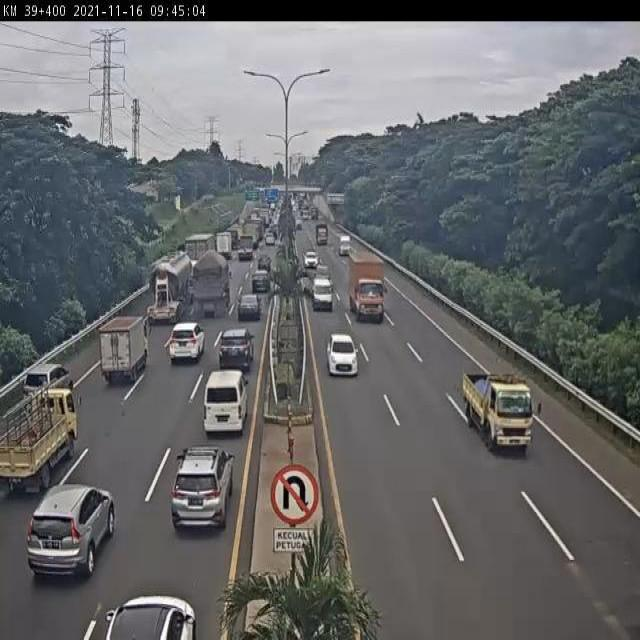car: (27, 482, 116, 582), (169, 452, 231, 537), (216, 332, 251, 377), (326, 333, 359, 379), (164, 325, 199, 363), (310, 276, 335, 311), (237, 297, 259, 327), (252, 273, 271, 295), (255, 254, 272, 278)
small bus: (202, 373, 247, 438)
small truck: (0, 385, 82, 488), (461, 368, 535, 453), (101, 317, 151, 384)
truck-l-: (143, 250, 194, 326)
truck-m-: (187, 256, 227, 325), (350, 252, 387, 317), (180, 236, 217, 292)
